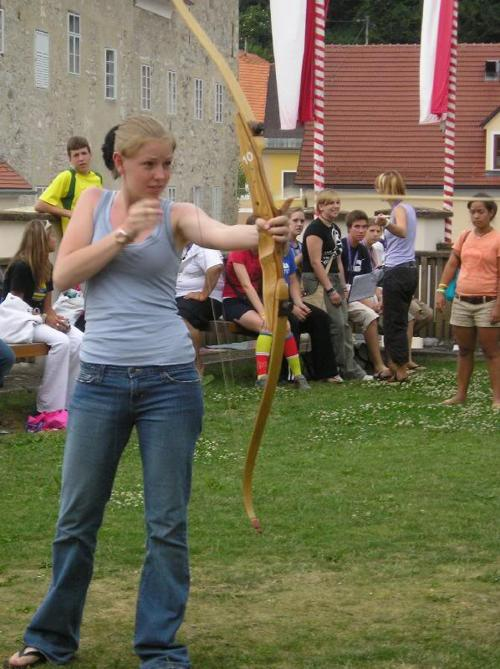person: (8, 119, 298, 661)
